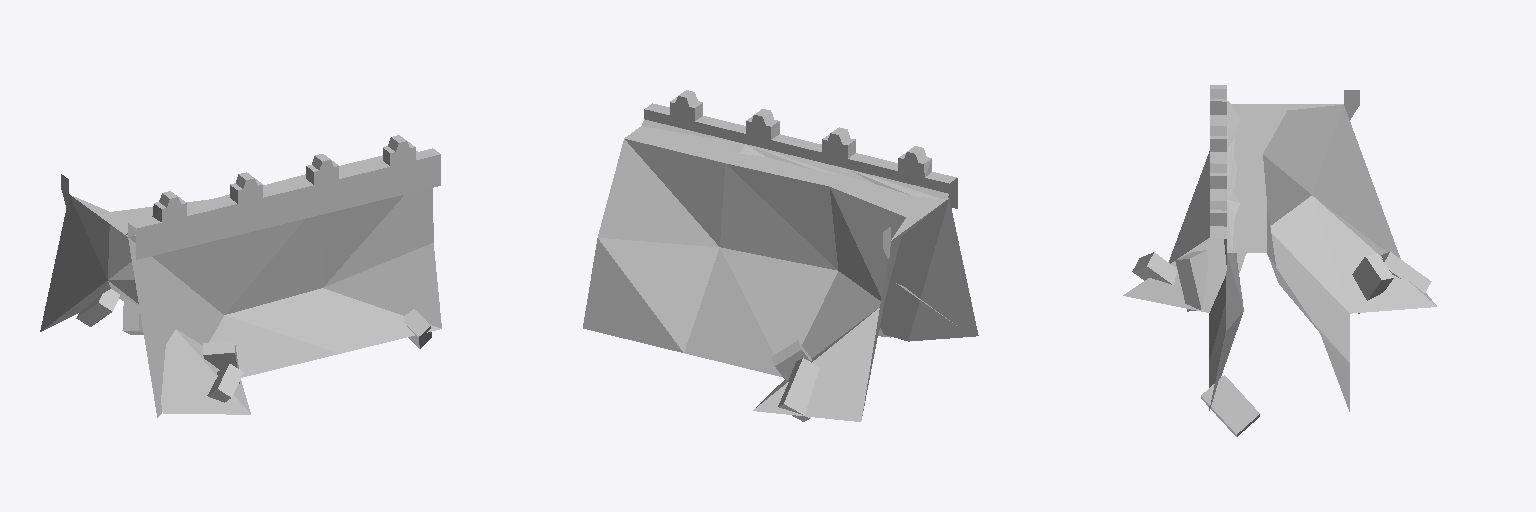
Rendered from templeStraightNarrowLongUpBHorz_prefab.obj.
The picture shows the model from 3 angles: view 1: azimuth 30°, elevation 25°; view 2: azimuth 150°, elevation 25°; view 3: azimuth 270°, elevation 25°; orthographic projection.
Visible parts, largest first — view 1: Object216-Pivot; view 2: Object216-Pivot; view 3: Object216-Pivot.
Boxes of the visible parts, x1,y1,x2,y2 form: Object216-Pivot: [40, 135, 441, 417]; Object216-Pivot: [583, 90, 978, 421]; Object216-Pivot: [1123, 85, 1436, 436].
Bounding box in the file's own units: 60.83 × 42.12 × 53.73.